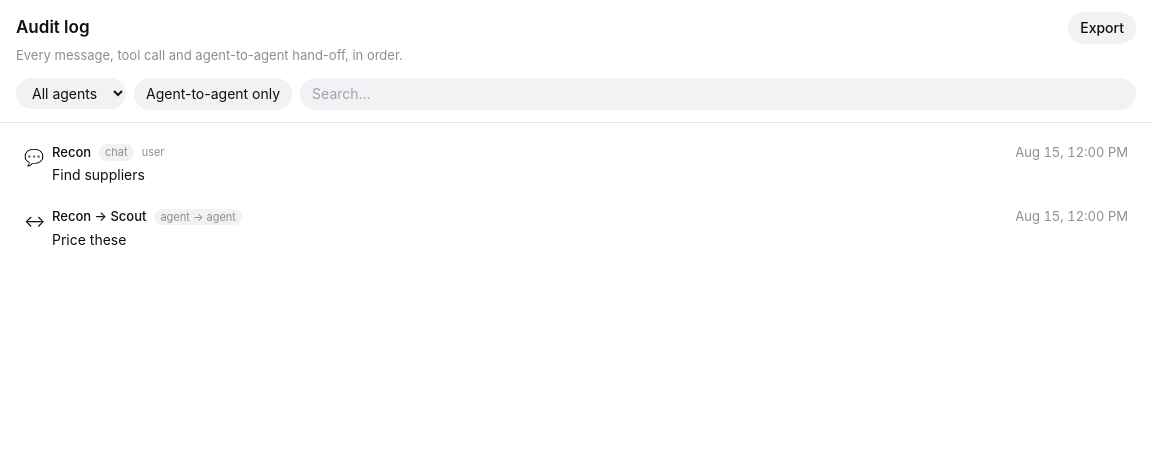
Test: AuditView › expands a row to show raw JSON
The image size is (1152, 468).
Click the text "Find suppliers". click: (98,174)
box: [52,166,145,183]
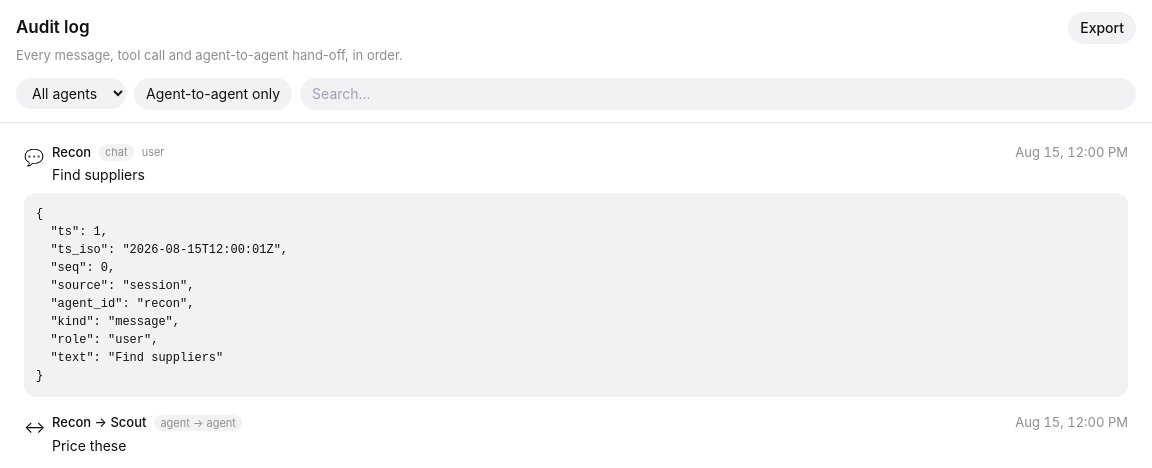
Check: the text "\"kind\": \"message\"" is shown, box [36,207,288,383]
